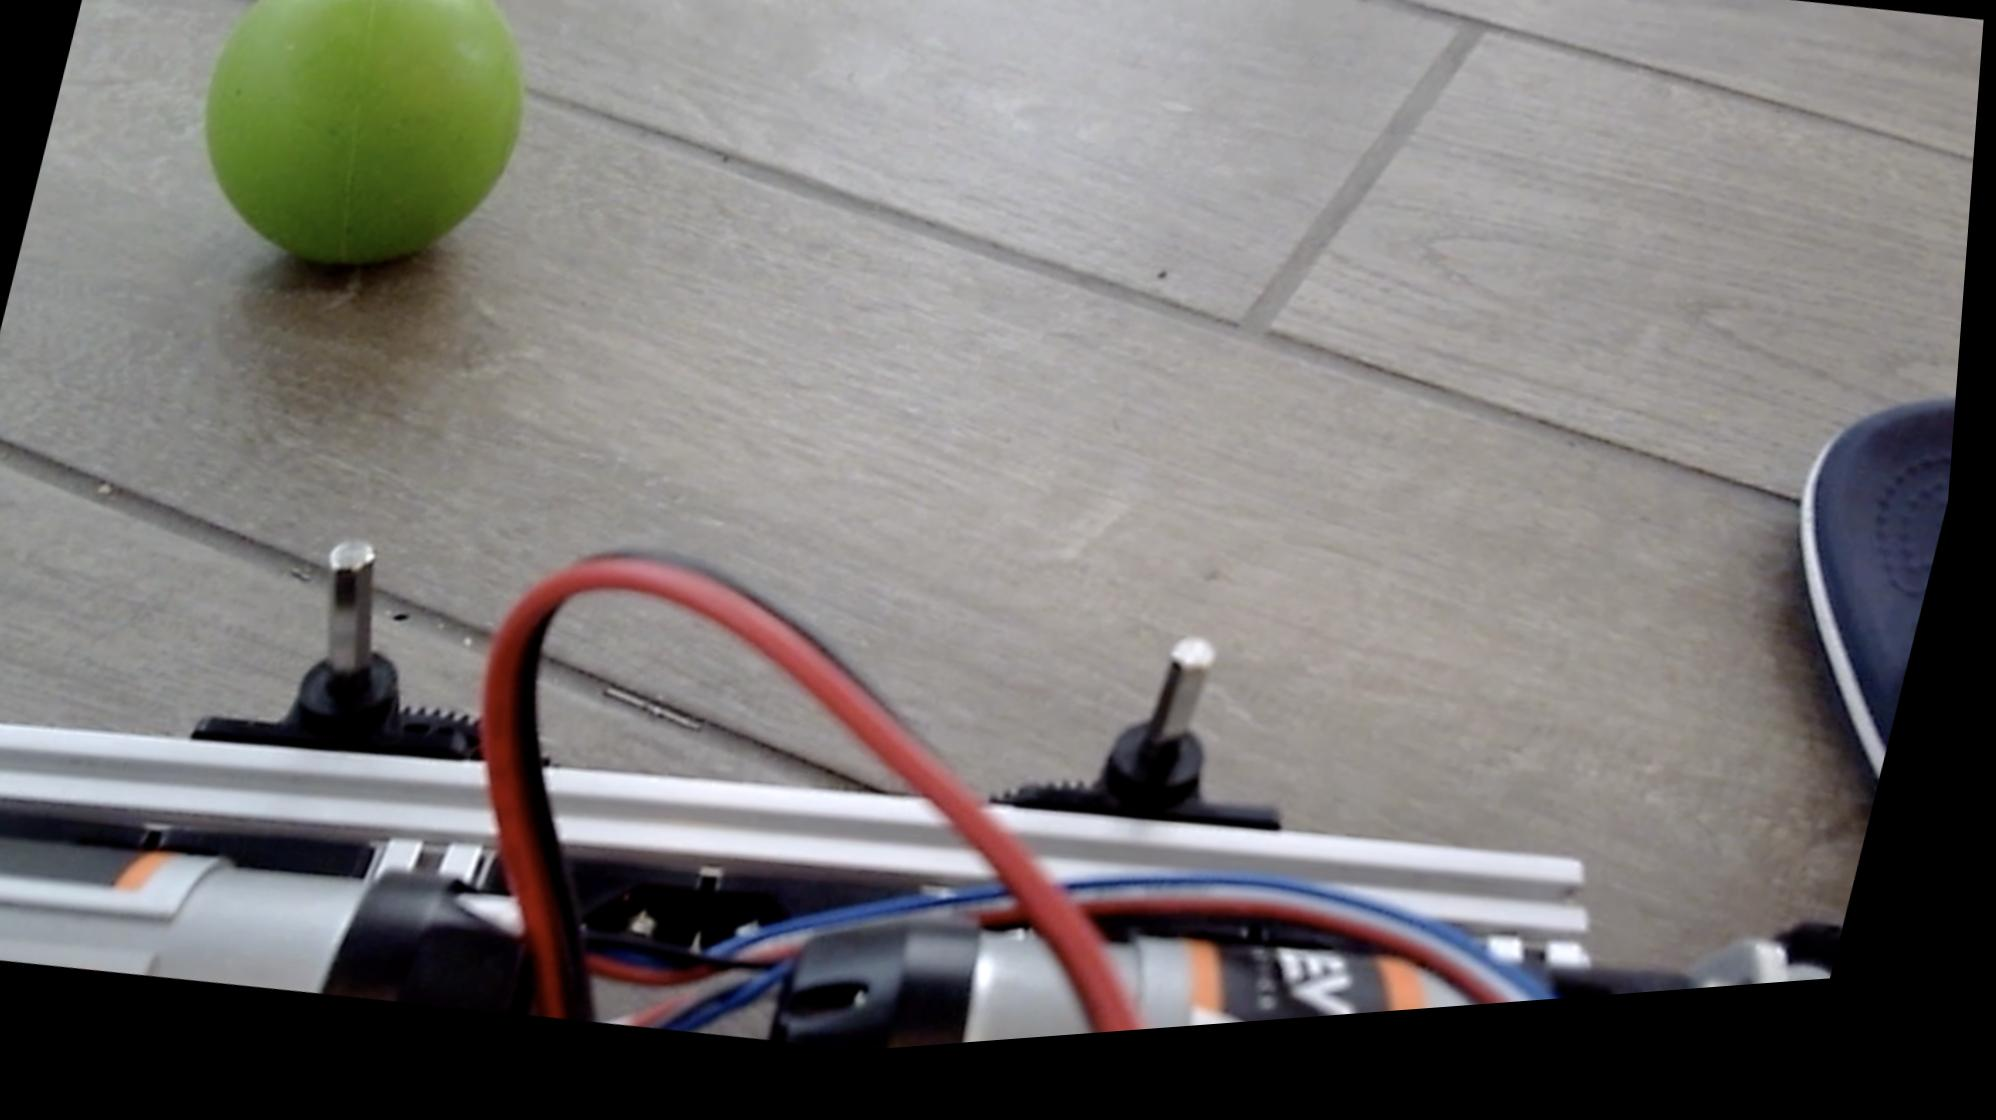greenball: (166, 0, 564, 310)
